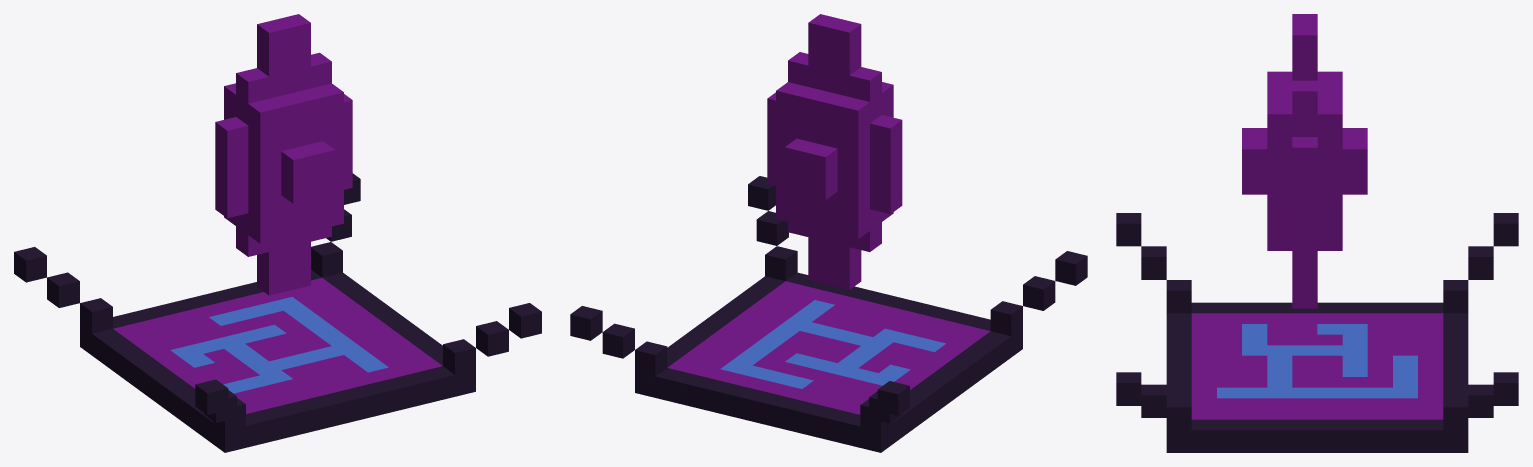
Rendered from ArcaneEnergy.glb.
3 renders of one model, left to right at view 1: azimuth 30°, elevation 25°; view 2: azimuth 150°, elevation 25°; view 3: azimuth 270°, elevation 25°, orthographic. The views are drawn at different scales.
Parts seen in each view (by area): view 1: VoxelModel; view 2: VoxelModel; view 3: VoxelModel.
Part boxes in pixels (<box>): VoxelModel: <box>14,14,541,452</box>; VoxelModel: <box>570,14,1087,452</box>; VoxelModel: <box>1116,14,1518,452</box>.
Size of the model in its own units: 16 by 16 by 16.
